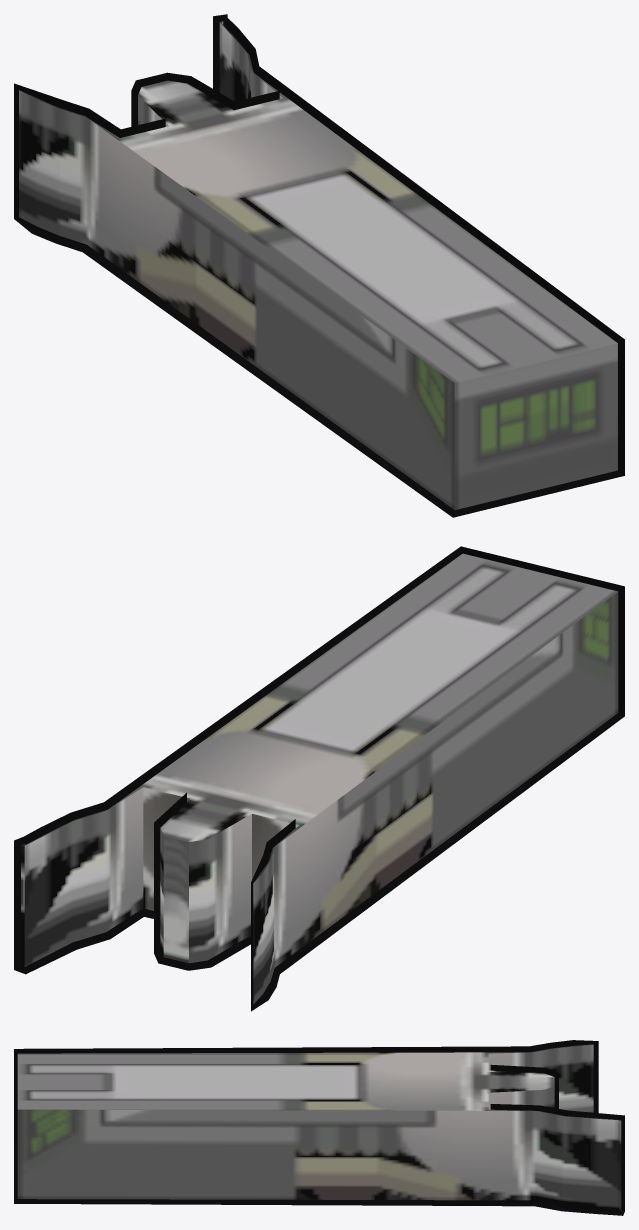
The model's file is Building_ElectricInhibitor_Things_Building_ElectricInhibitor_ElectricInhibitor.glb.
3 views of the same model, one above another, from view 1: azimuth 30°, elevation 25°; view 2: azimuth 150°, elevation 25°; view 3: azimuth 270°, elevation 25° (orthographic). The views are drawn at different scales.
Visible parts, largest first — view 1: Body, Outline; view 2: Body, Outline; view 3: Body, Outline.
Part boxes in pixels (x1,y1,x2,y2): Body: [19, 21, 617, 509]; Outline: [14, 14, 624, 517]; Body: [21, 553, 618, 1004]; Outline: [14, 546, 624, 1011]; Body: [17, 1044, 621, 1210]; Outline: [14, 1040, 624, 1215].
Bounding box in the file's own units: 0.4762 × 0.2779 × 1.55.
2 materials, 1 textured.
